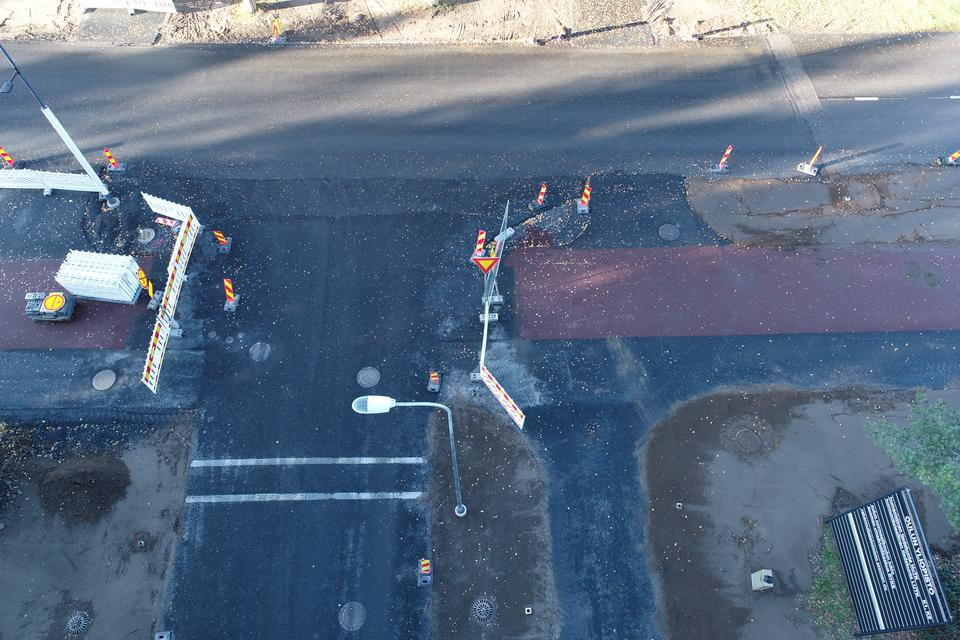intersection: (133, 16, 726, 473)
